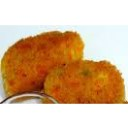cutlet: (2, 32, 86, 89), (48, 62, 127, 103)
